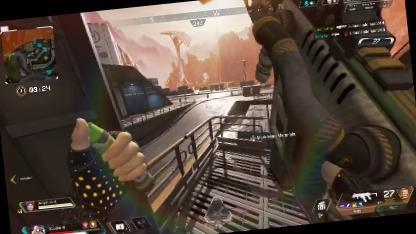Target: (177, 97, 183, 103)
